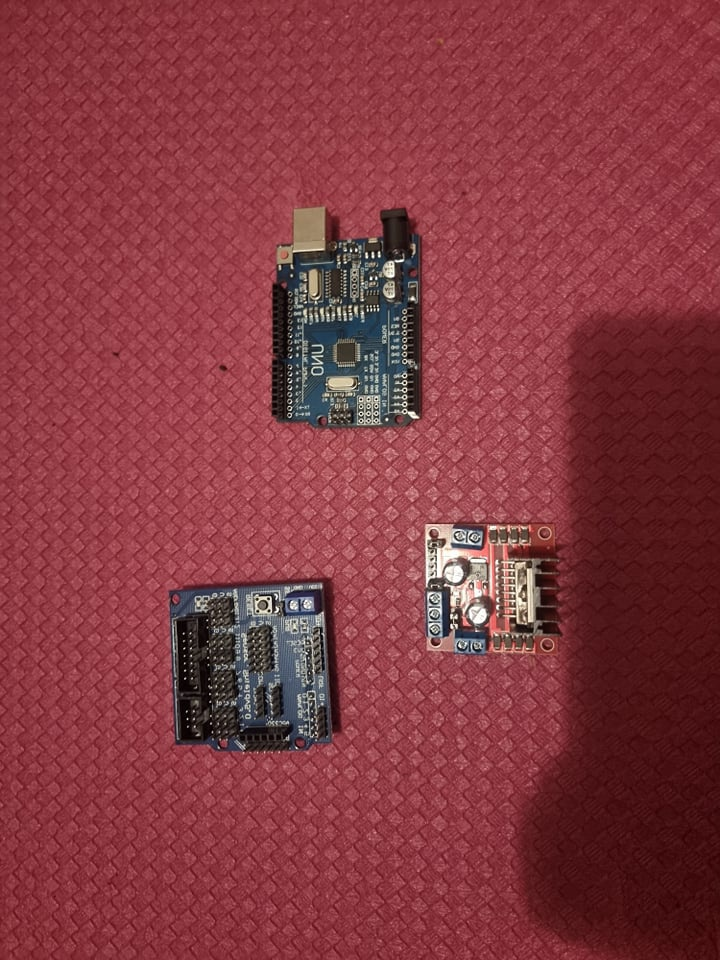5V EXPANSION: (172, 578, 338, 755)
MOTOR: (428, 519, 562, 657)
UNO R3: (266, 202, 425, 431)
